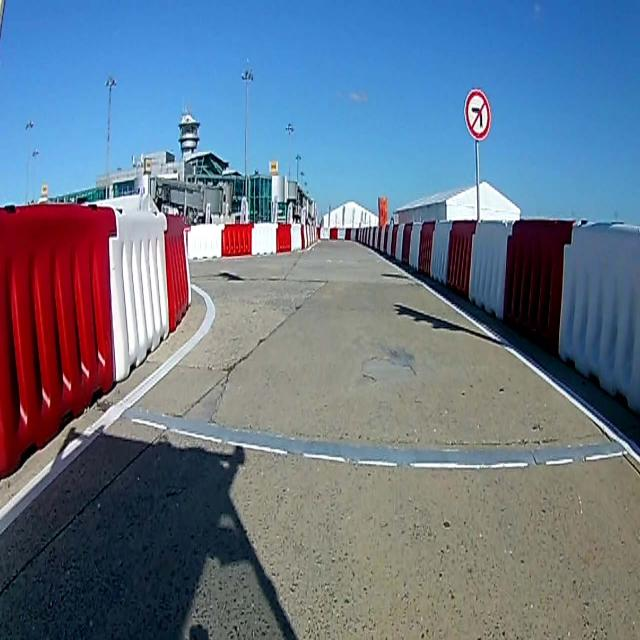soladonulmez: (465, 88, 491, 139)
